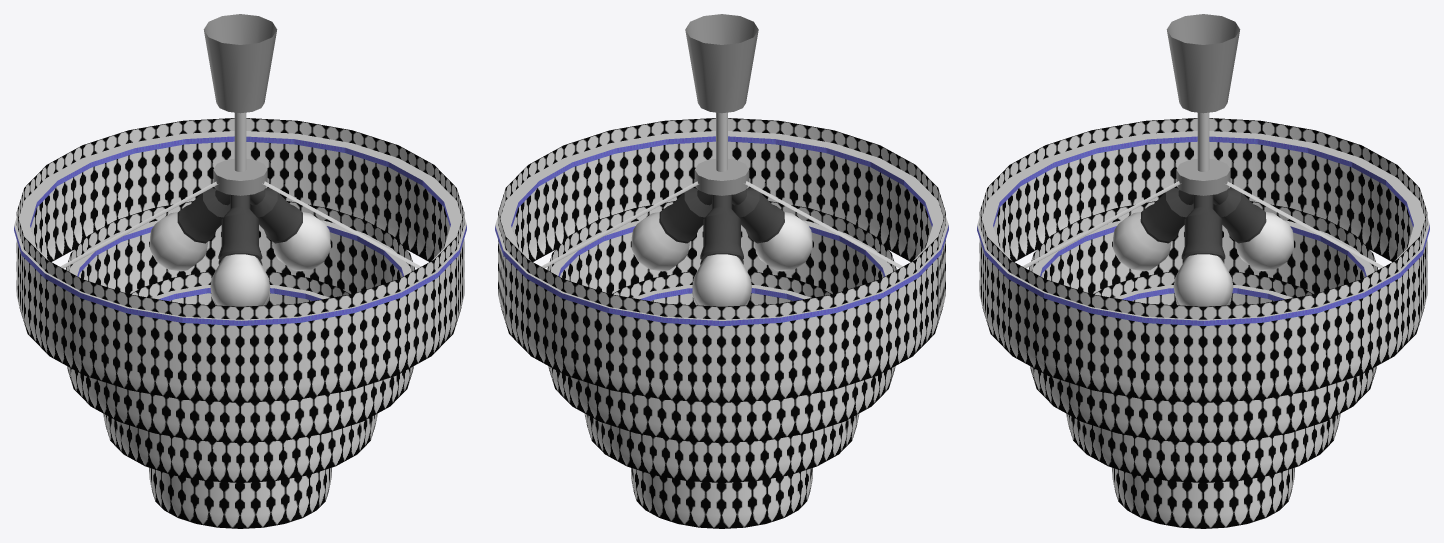
The model's file is Cascade_USSR_Lamp.fbx.
3 views of the same model, side by side, from view 1: azimuth 30°, elevation 25°; view 2: azimuth 150°, elevation 25°; view 3: azimuth 270°, elevation 25° (orthographic).
Visible parts, largest first — view 1: Cascade_USSR_Lamp; view 2: Cascade_USSR_Lamp; view 3: Cascade_USSR_Lamp.
Part boxes in pixels (<box>): Cascade_USSR_Lamp: <box>14,14,466,528</box>; Cascade_USSR_Lamp: <box>495,14,948,528</box>; Cascade_USSR_Lamp: <box>977,14,1429,528</box>.
Size of the model in its own units: 67.49 by 76.01 by 67.49.
